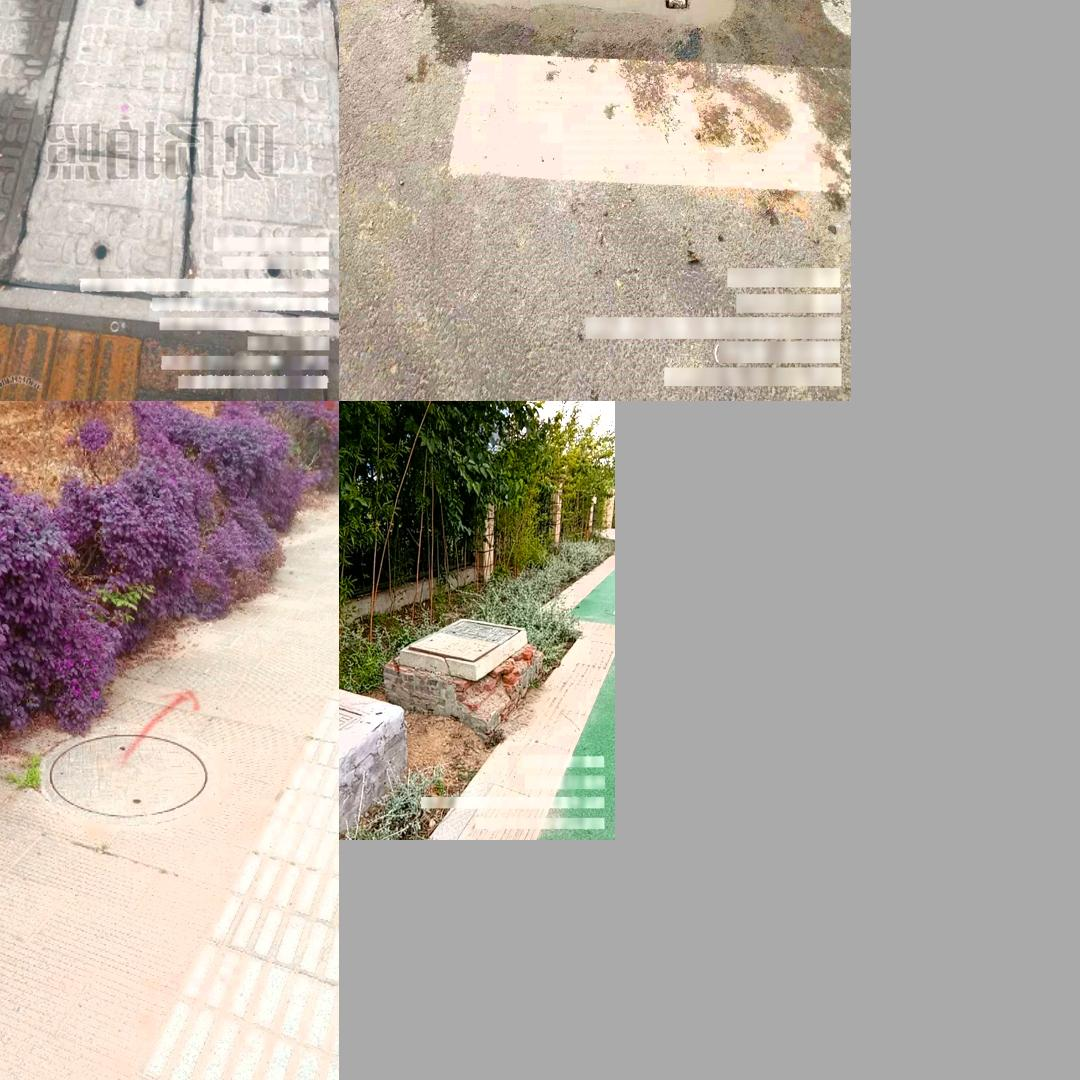good: (0, 0, 336, 305), (41, 725, 222, 820), (401, 618, 524, 664), (487, 0, 713, 11)
